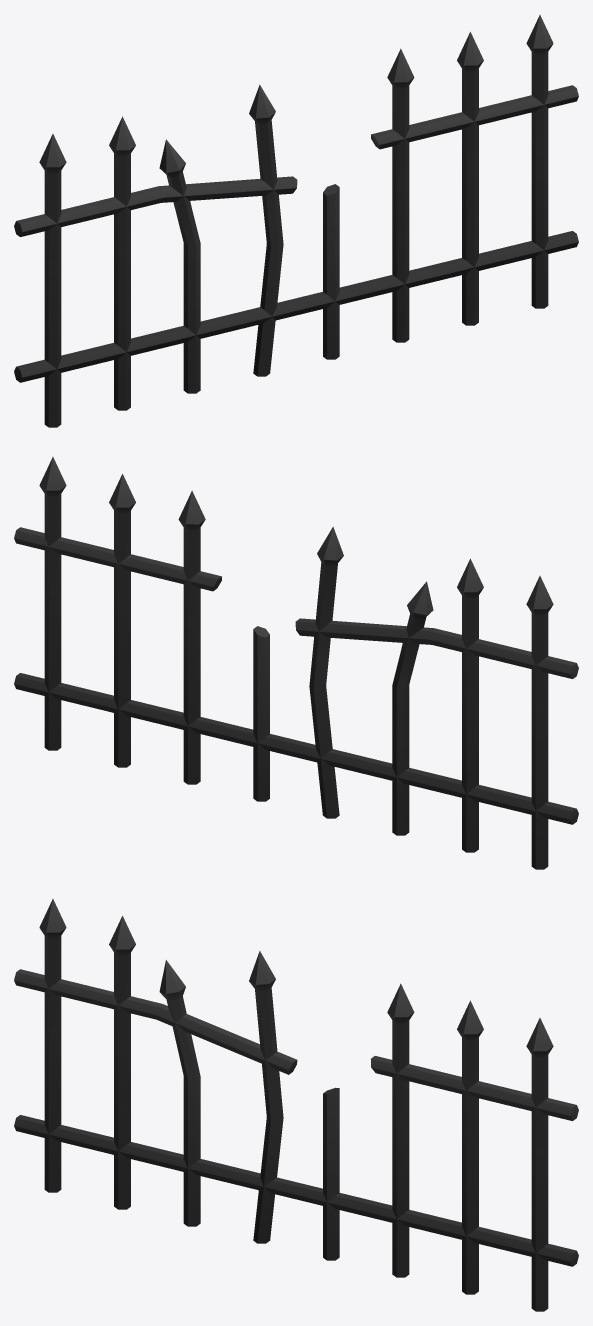
File: kay-cerca-ferro-quebrada.gltf
3 views of the same model, one above another, from view 1: azimuth 30°, elevation 25°; view 2: azimuth 150°, elevation 25°; view 3: azimuth 330°, elevation 25° (orthographic).
Parts seen in each view (by area): view 1: fence_seperate_broken; view 2: fence_seperate_broken; view 3: fence_seperate_broken.
Boxes of the visible parts, x1,y1,x2,y2 form: fence_seperate_broken: [14, 15, 578, 427]; fence_seperate_broken: [14, 457, 578, 869]; fence_seperate_broken: [14, 899, 578, 1311].
Bounding box in the file's own units: 2 × 1 × 0.0847.
1 material, 1 textured.
